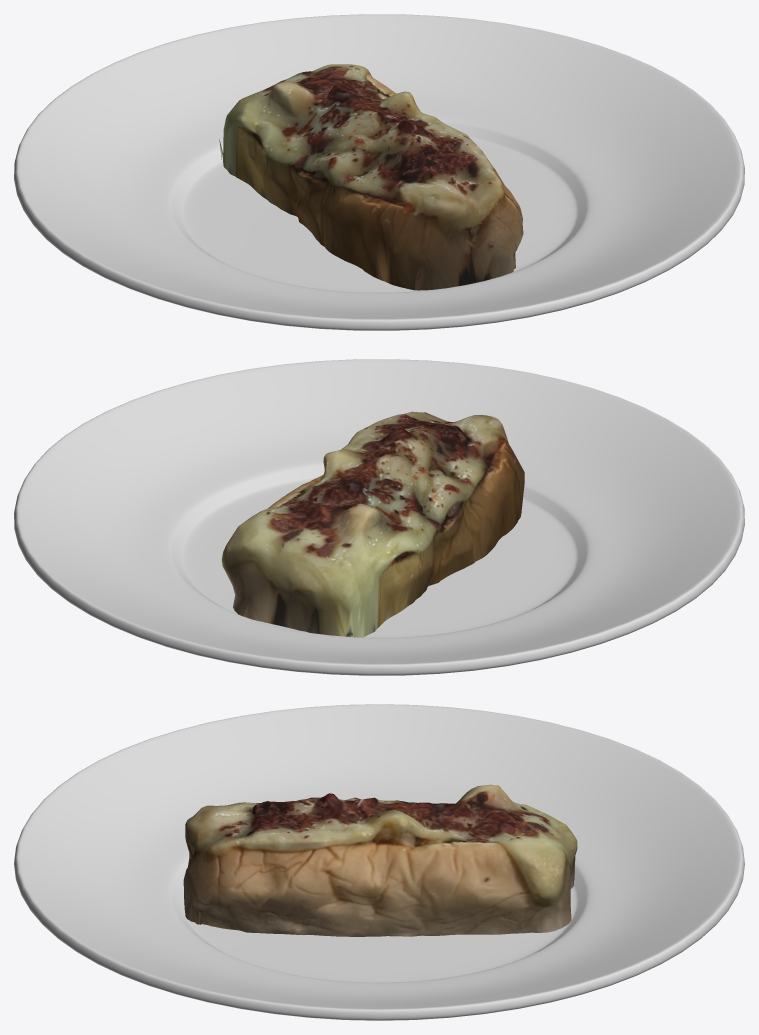
File: perro_c.glb
The picture shows the model from 3 angles, top to bottom: view 1: azimuth 30°, elevation 25°; view 2: azimuth 150°, elevation 25°; view 3: azimuth 270°, elevation 25°; orthographic projection.
Visible parts, largest first — view 1: Circle, 3DModel_LowPoly; view 2: Circle, 3DModel_LowPoly; view 3: Circle, 3DModel_LowPoly.
Boxes of the visible parts, <box> form: Circle: <box>14,14,744,330</box>; 3DModel_LowPoly: <box>219,64,523,290</box>; Circle: <box>14,359,744,675</box>; 3DModel_LowPoly: <box>221,411,524,637</box>; Circle: <box>14,704,744,1020</box>; 3DModel_LowPoly: <box>183,784,577,936</box>.
Size of the model in its own units: 3.13 by 0.5711 by 3.13.
1 material, 1 textured.
